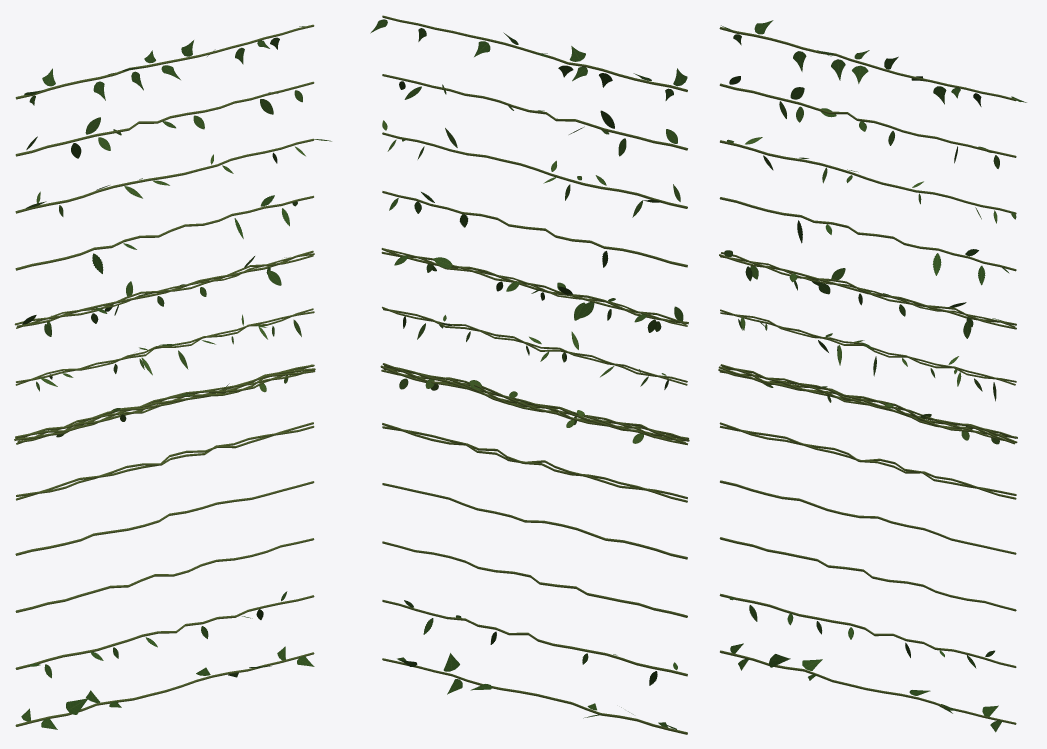
File: liana_kit_09_lod1.gltf
The picture shows the model from 3 angles, left to right: view 1: azimuth 30°, elevation 25°; view 2: azimuth 150°, elevation 25°; view 3: azimuth 330°, elevation 25°; orthographic projection. The views are drawn at different scales.
Visible parts, largest first — view 1: liana_kit_09; view 2: liana_kit_09; view 3: liana_kit_09.
Part boxes in pixels (x1,y1,x2,y2): liana_kit_09: (14, 24, 331, 729); liana_kit_09: (370, 15, 689, 734); liana_kit_09: (718, 20, 1026, 732).
Size of the model in its own units: 3.15 by 6.37 by 0.5537.
Materials: 2 (2 with a texture image).
